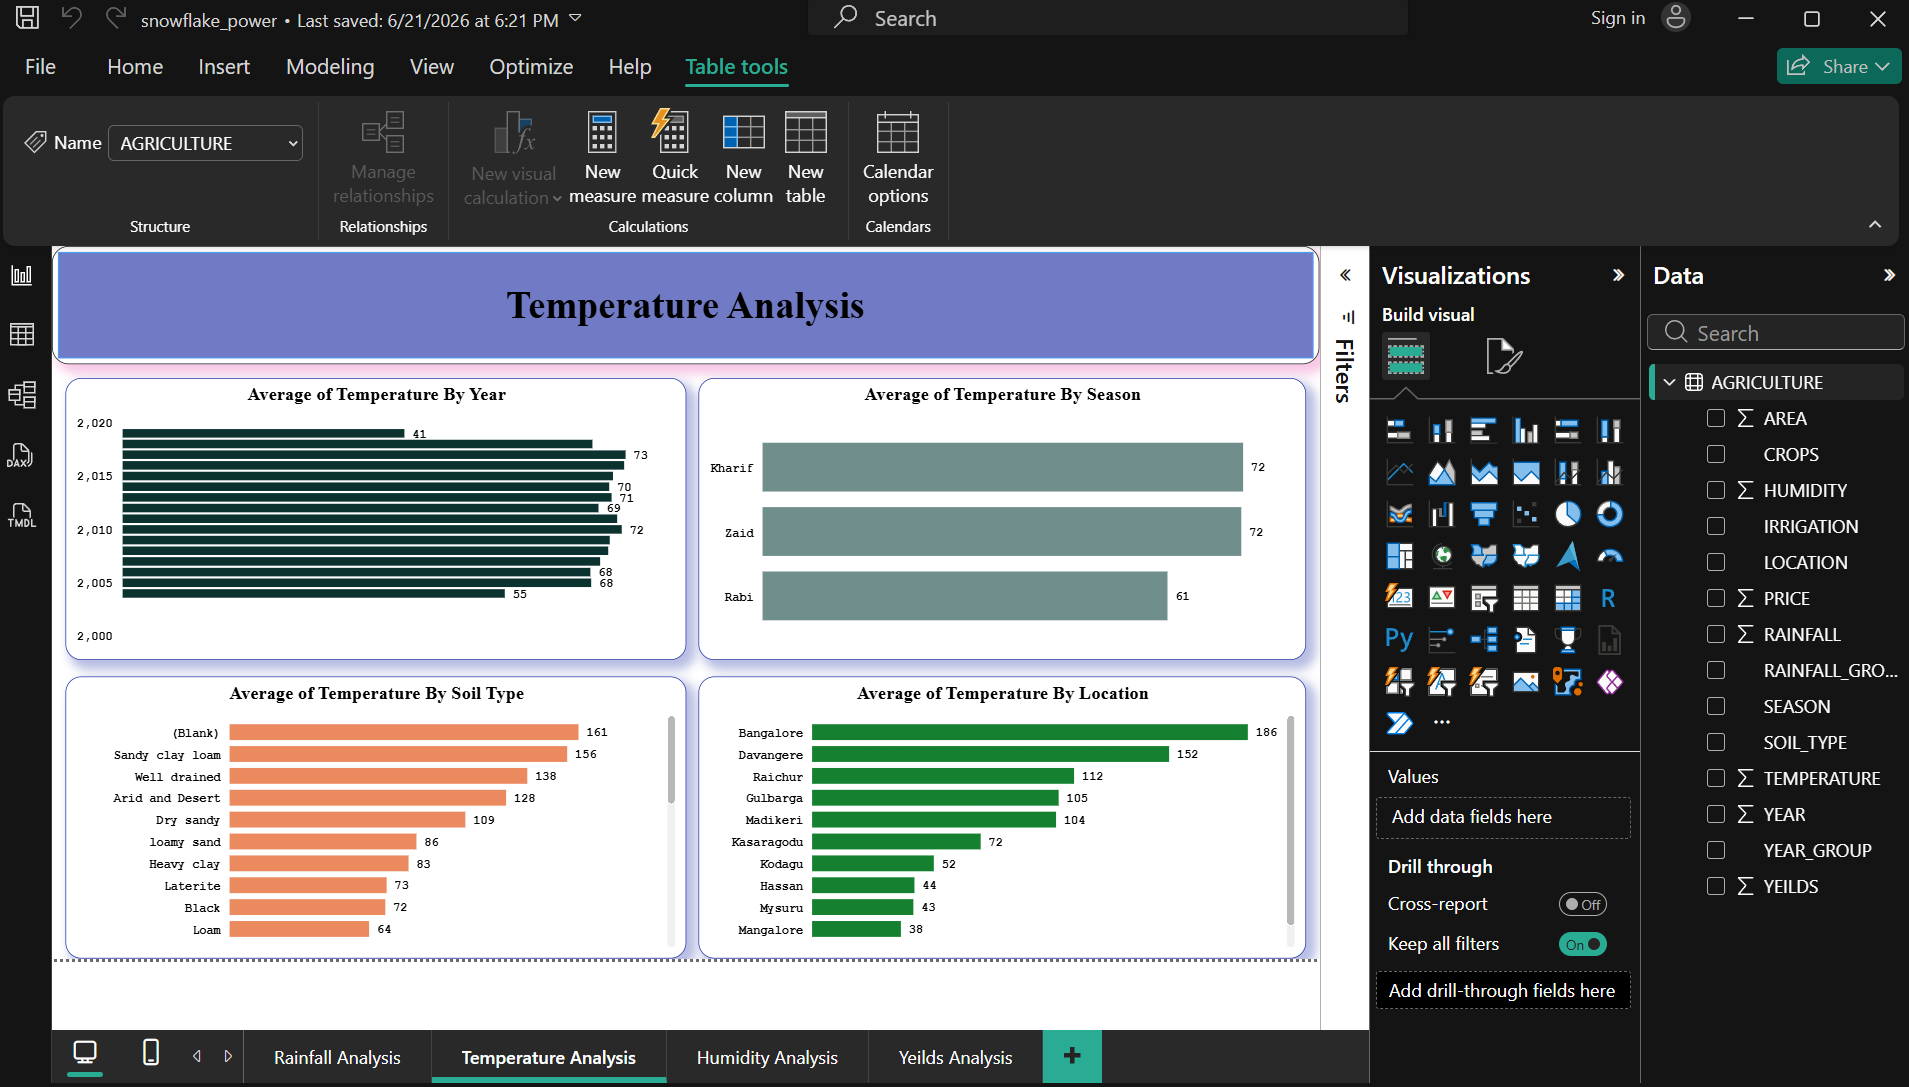

The dashboard page shown, as its layout file describes it:
{"tool":"powerbi","page":{"name":"Temperature  Analysis","canvas":[1280,720],"ordinal":1},"visuals":[{"type":"shape","title":"Rainfall analysis","box":[0,0,1279.5,119.6],"z":0},{"type":"barChart","title":"Average of Temperature By Year","fields":{"Category":["AGRICULTURE.YEAR"],"Y":["Avg(AGRICULTURE.TEMPERATURE)"]},"box":[13.6,133.3,626.9,284.7],"z":1000},{"type":"barChart","title":"Average of Temperature By Season","fields":{"Category":["AGRICULTURE.SEASON"],"Y":["Avg(AGRICULTURE.TEMPERATURE)"]},"box":[652.6,133.3,613.3,284.7],"z":2000},{"type":"barChart","title":"Average of Temperature By Soil Type","fields":{"Category":["AGRICULTURE.SOIL_TYPE"],"Y":["Avg(AGRICULTURE.TEMPERATURE)"]},"box":[13.6,434.6,626.9,284.7],"z":3000},{"type":"barChart","title":"Average of Temperature By Location","fields":{"Category":["AGRICULTURE.LOCATION"],"Y":["Avg(AGRICULTURE.TEMPERATURE)"]},"box":[652.6,434.6,613.3,284.7],"z":4000}]}

Visuals, with their boxes on the page's 1280x720 design canvas (x1, y1, x2, y2). These are canvas units, not pixel positions in the 1909x1087 screenshot, which may show the page scaled, cropped or inside an application window:
"Rainfall analysis" shape: (0,0,1280,120)
"Average of Temperature By Year" barChart: (14,133,640,418)
"Average of Temperature By Season" barChart: (653,133,1266,418)
"Average of Temperature By Soil Type" barChart: (14,435,640,719)
"Average of Temperature By Location" barChart: (653,435,1266,719)
